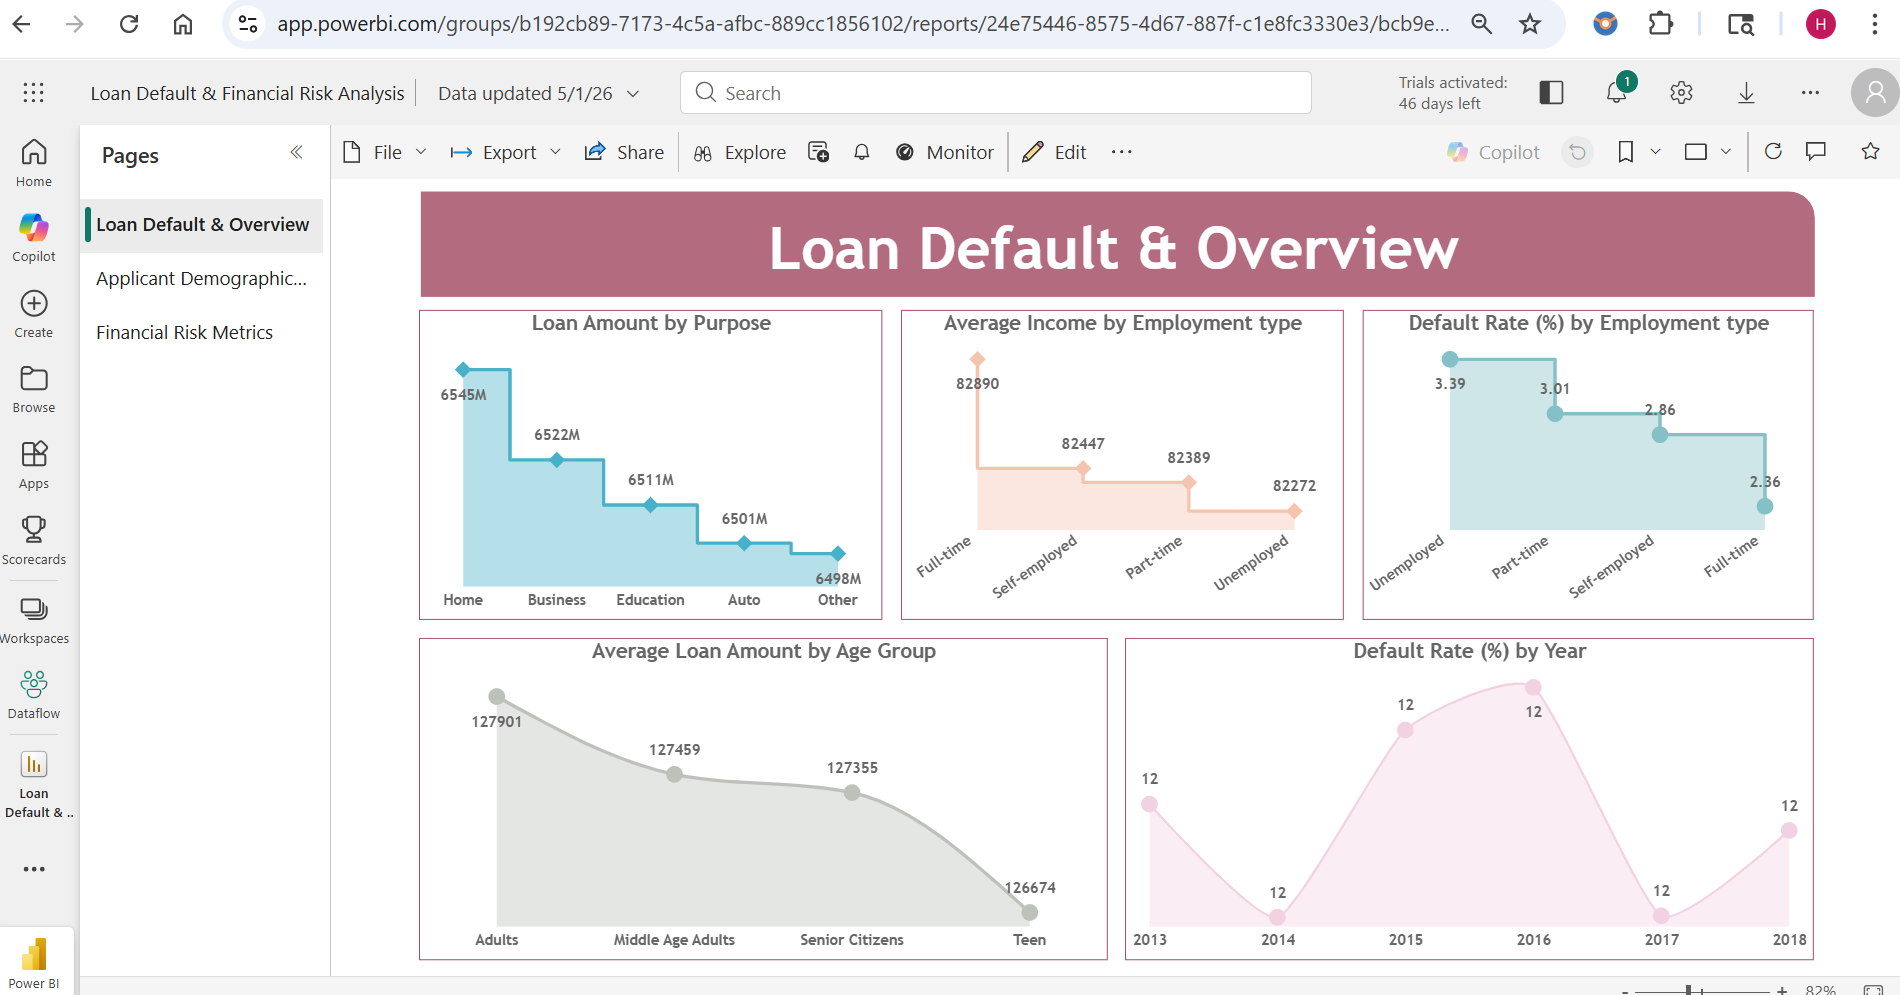

Layout of this report page (visuals, bound fields, positions):
{"tool":"powerbi","page":{"name":"Loan Default & Overview","canvas":[1280,720],"ordinal":0},"visuals":[{"type":"shape","box":[8.1,11.3,1260,95.6],"z":0},{"type":"lineChart","title":"Loan Amount by Purpose","fields":{"Y":["Measures Table1.Loan Amount by Purpose"],"Category":["Loan_default.LoanPurpose"]},"box":[7.8,118.2,418.4,280],"z":1000},{"type":"lineChart","title":"Average Income by Employment type","fields":{"Y":["Measures Table1.Average Income by Employment type"],"Category":["Loan_default.EmploymentType"]},"box":[443.3,118.2,399.7,280],"z":2000},{"type":"lineChart","title":"Default Rate (%) by Employment type","fields":{"Y":["Measures Table1.Default Rate by Employment type"],"Category":["Loan_default.EmploymentType"]},"box":[860.1,118.2,407.5,280],"z":3000},{"type":"lineChart","title":"Average Loan Amount by Age Group","fields":{"Y":["Measures Table1.Average Loan by Age Group"],"Category":["Loan_default.Age Groups"]},"box":[7.8,415.3,622.1,290.8],"z":4000},{"type":"lineChart","title":"Default Rate (%) by Year","fields":{"Y":["Measures Table1.Default Rate by Year"],"Category":["Loan_default.Year"]},"box":[645.4,415.3,622.1,290.8],"z":5000}]}

Visuals, with their boxes on the page's 1280x720 design canvas (x1, y1, x2, y2). These are canvas units, not pixel positions in the 1900x995 screenshot, which may show the page scaled, cropped or inside an application window:
shape: 8:11:1268:107
"Loan Amount by Purpose" lineChart: 8:118:426:398
"Average Income by Employment type" lineChart: 443:118:843:398
"Default Rate (%) by Employment type" lineChart: 860:118:1268:398
"Average Loan Amount by Age Group" lineChart: 8:415:630:706
"Default Rate (%) by Year" lineChart: 645:415:1268:706
